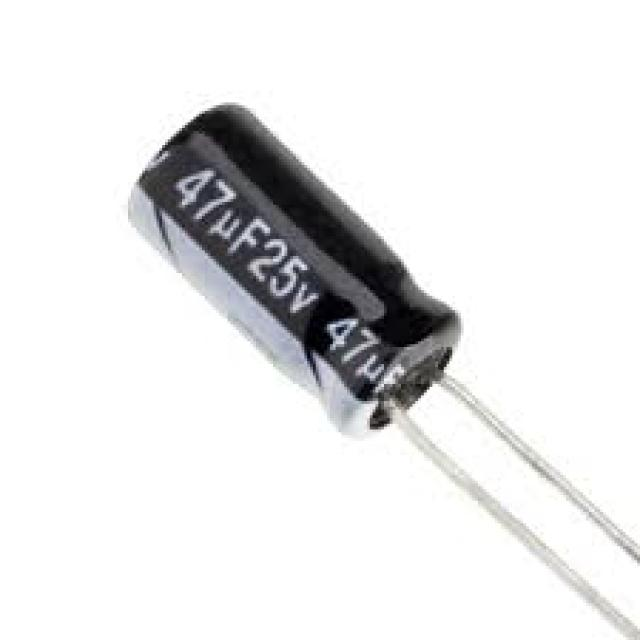Capacitor: (131, 105, 461, 435)
Resistor: (128, 102, 640, 640)
